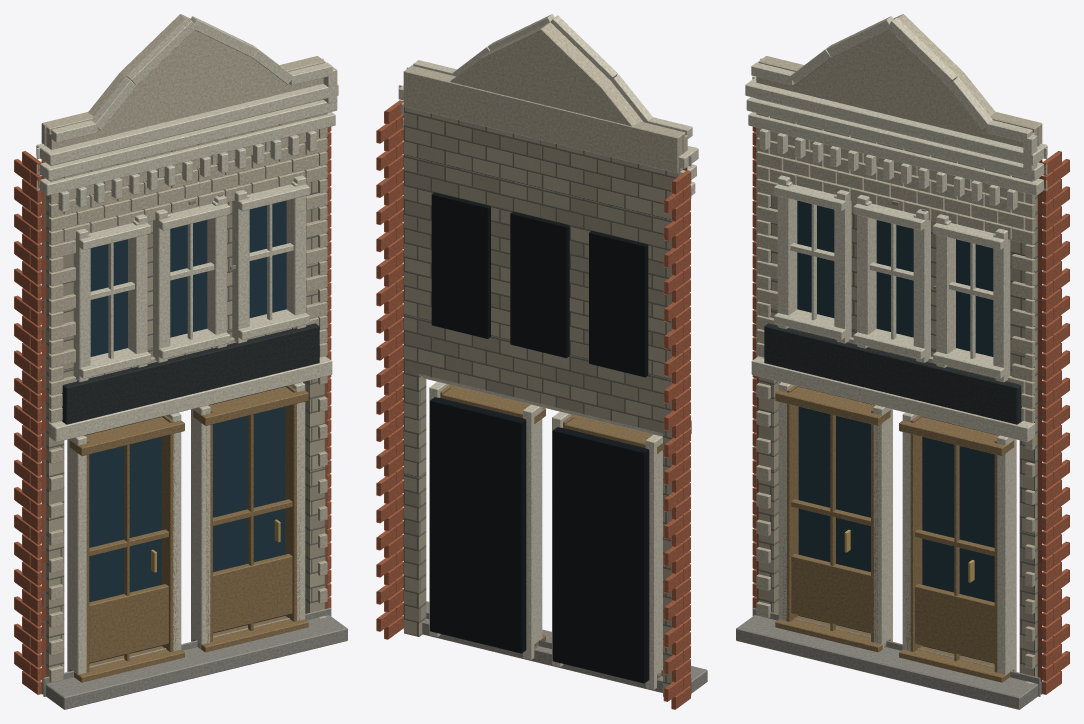
File: CLSTGA16_lod0.glb
3 renders of one model, left to right at view 1: azimuth 30°, elevation 25°; view 2: azimuth 150°, elevation 25°; view 3: azimuth 330°, elevation 25°, orthographic.
Visible parts, largest first — view 1: CLSTGA16_FRONT_LOD0; view 2: CLSTGA16_FRONT_LOD0; view 3: CLSTGA16_FRONT_LOD0.
Boxes of the visible parts, box(x1,y1,x2,y2) form: CLSTGA16_FRONT_LOD0: box(14, 14, 347, 709); CLSTGA16_FRONT_LOD0: box(376, 14, 707, 709); CLSTGA16_FRONT_LOD0: box(736, 14, 1069, 709).
Bounding box in the file's own units: 3.84 × 8.05 × 1.02.
Materials: 16 (13 with a texture image).
